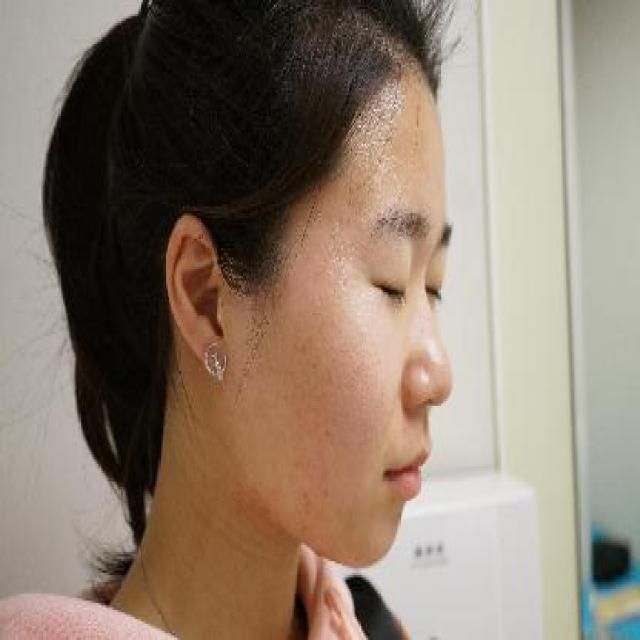dark spot: (323, 424, 337, 440), (306, 496, 316, 508), (302, 489, 310, 501), (263, 503, 271, 515)
